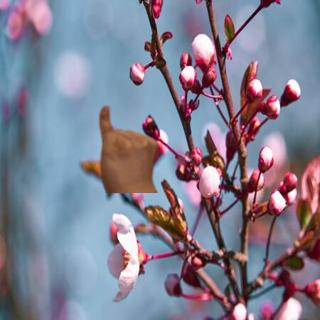FINE: (94, 101, 163, 187)
